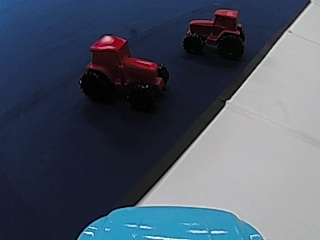Tracktor: (76, 33, 172, 107), (185, 6, 246, 59)
